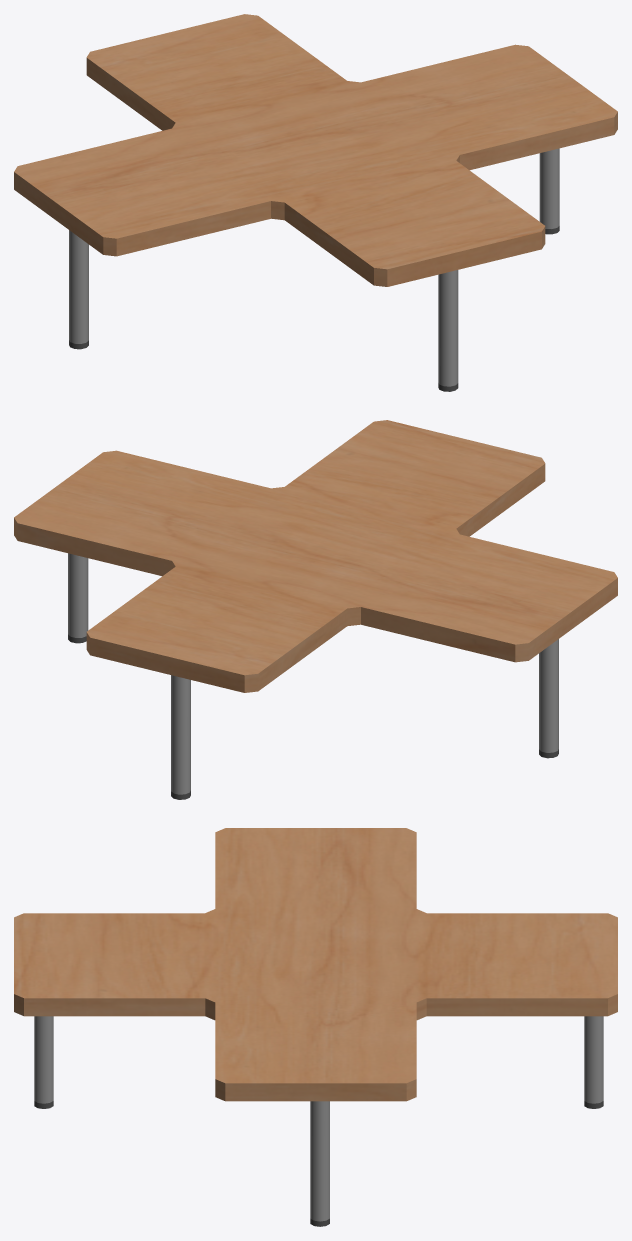
The model's file is Prop_F4_PlusDesk.fbx.
3 views of the same model, one above another, from view 1: azimuth 30°, elevation 25°; view 2: azimuth 150°, elevation 25°; view 3: azimuth 270°, elevation 25° (orthographic).
Visible parts, largest first — view 1: Prop_PlusTable; view 2: Prop_PlusTable; view 3: Prop_PlusTable.
Part boxes in pixels (x1,y1,x2,y2): Prop_PlusTable: (14,14,617,391); Prop_PlusTable: (14,420,617,799); Prop_PlusTable: (14,828,617,1226).
Size of the model in its own units: 196 by 53.67 by 196.
Materials: 3 (1 with a texture image).
